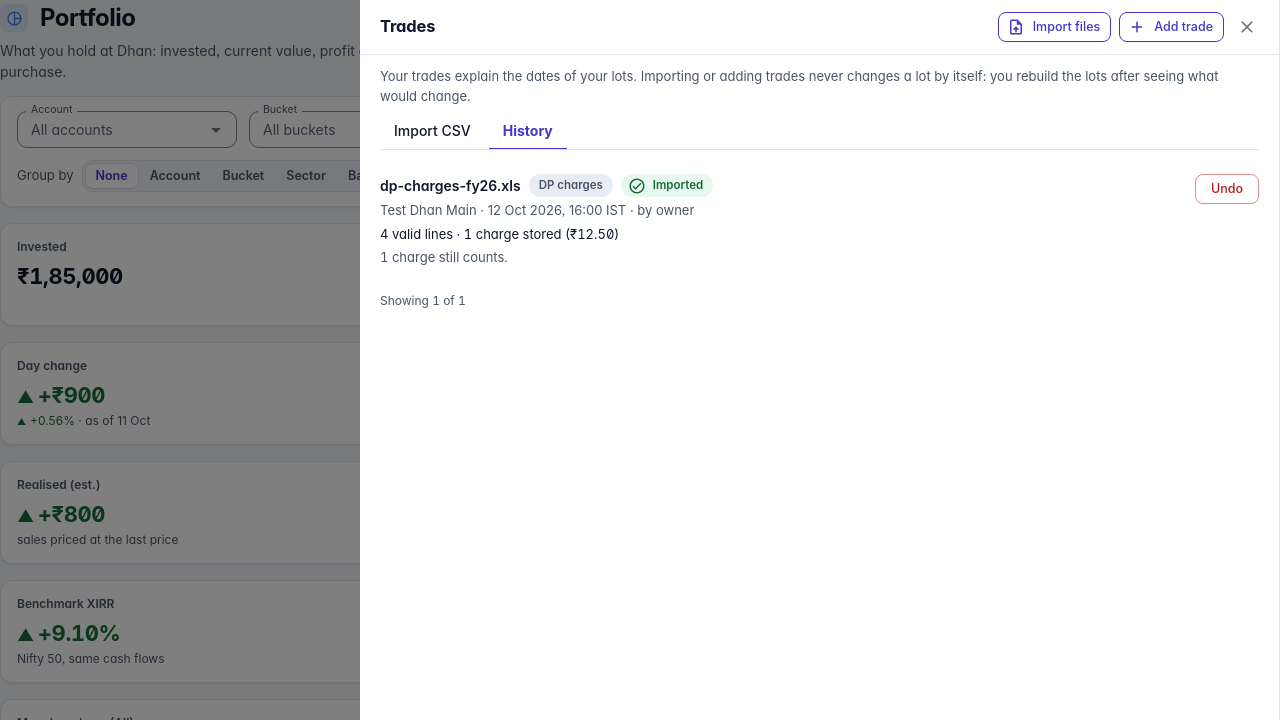
Test: Import history: tradebooks and depository-charges sheets › undoes a depository-charges import from the list
This screenshot has width=1280, height=720.
Click the button with aria-label "Undo the import of dp-charges-fy26.xls" at (1227, 189), box [1195,174,1259,204]
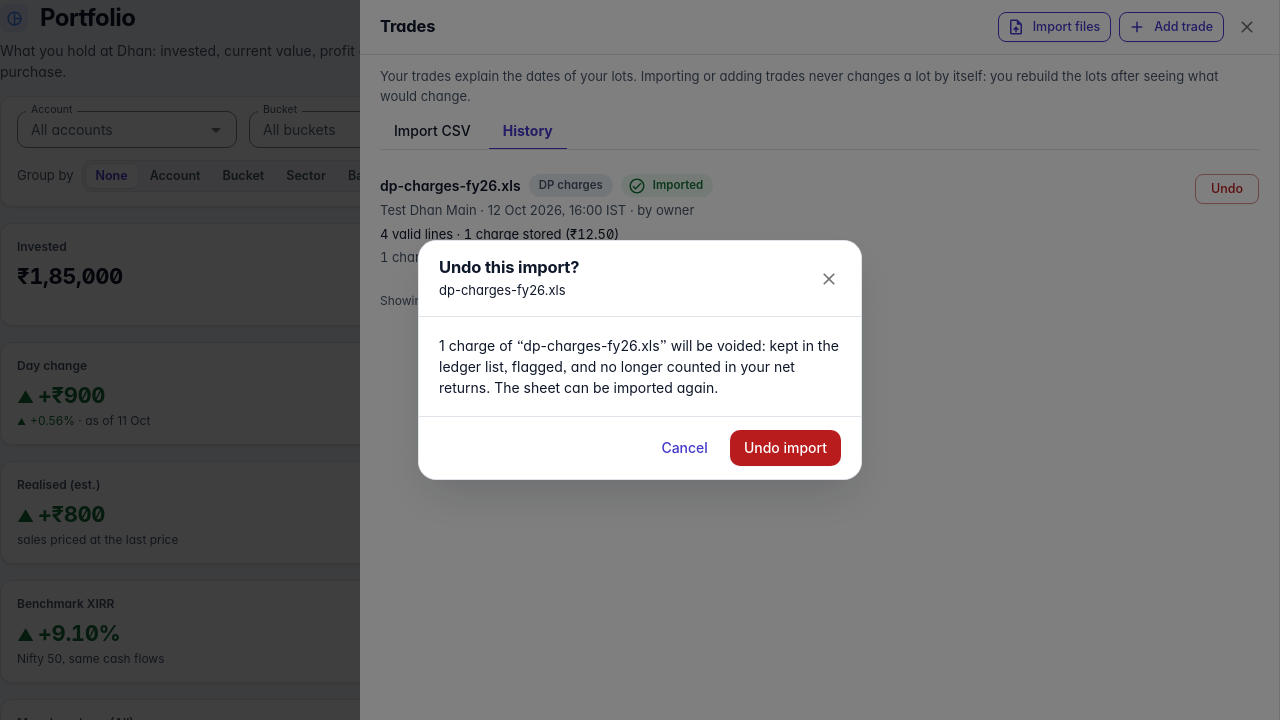
Click the button "Undo import" at (785, 448), box [730,430,841,466]
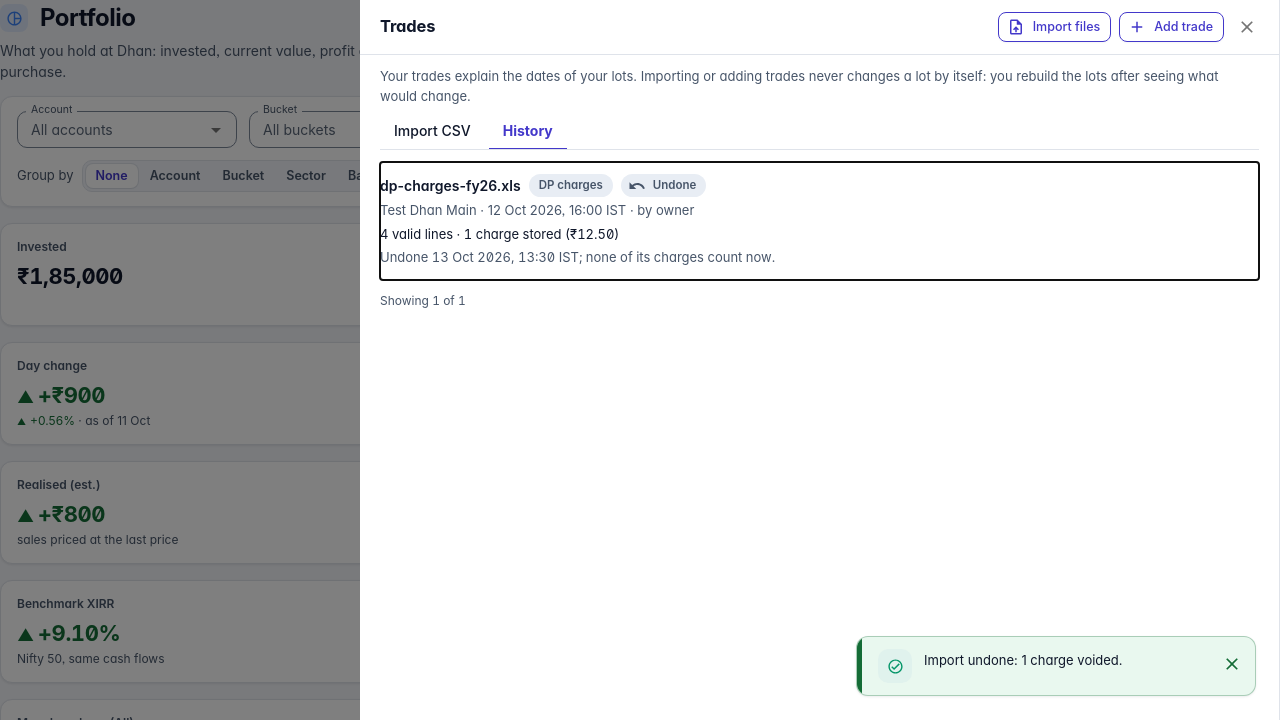
Now the message "Import undone: 1 charge voided." is shown, box [856,636,1256,696]
